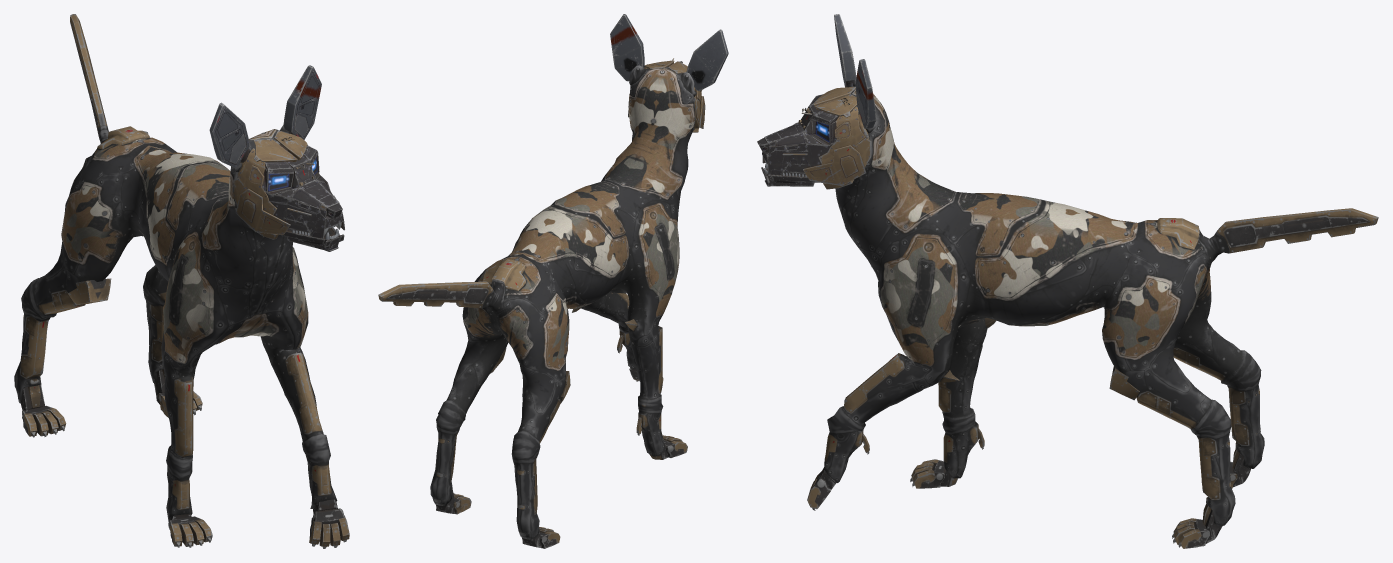
The model's file is african_wild_dog.glb.
The picture shows the model from 3 angles, left to right: view 1: azimuth 30°, elevation 25°; view 2: azimuth 150°, elevation 25°; view 3: azimuth 270°, elevation 25°; orthographic projection. The views are drawn at different scales.
Parts seen in each view (by area): view 1: Object_3, Object_2; view 2: Object_3, Object_2; view 3: Object_3, Object_2.
Boxes of the visible parts, box(x1,y1,x2,y2) form: Object_3: box(14, 14, 349, 548); Object_2: box(209, 65, 344, 251); Object_3: box(378, 65, 696, 548); Object_2: box(610, 14, 728, 132); Object_3: box(807, 79, 1378, 548); Object_2: box(757, 14, 876, 189).
Size of the model in its own units: 125 by 340 by 413.
2 materials, 2 textured.
